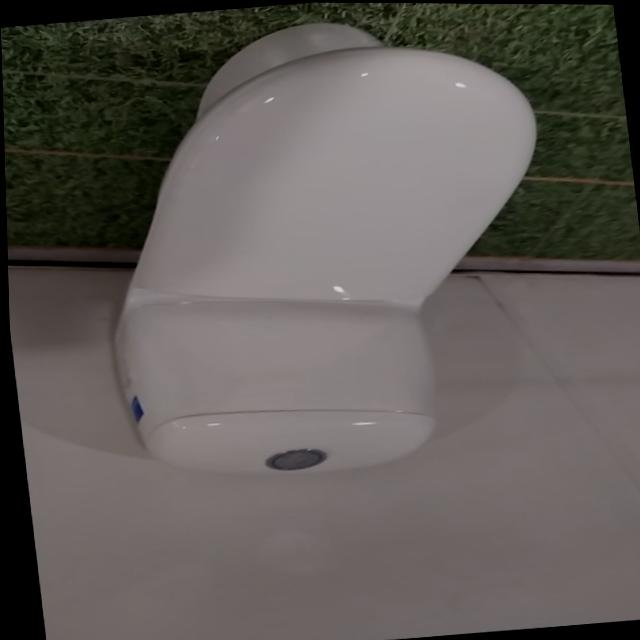toilet: (76, 2, 574, 491)
